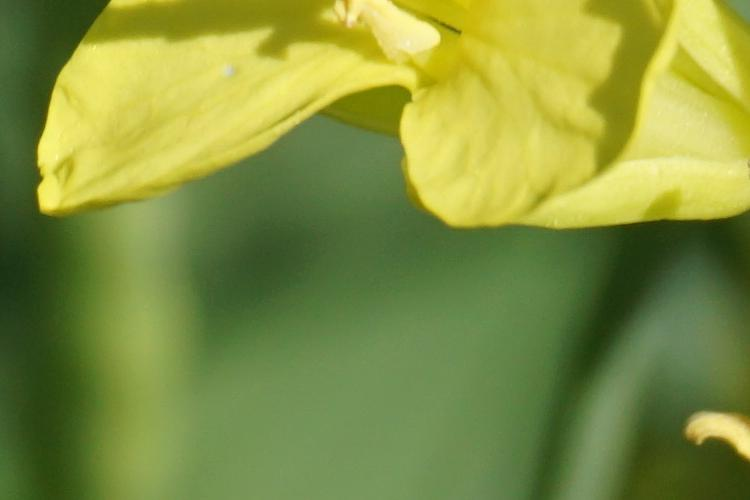yellow: (36, 1, 750, 234)
